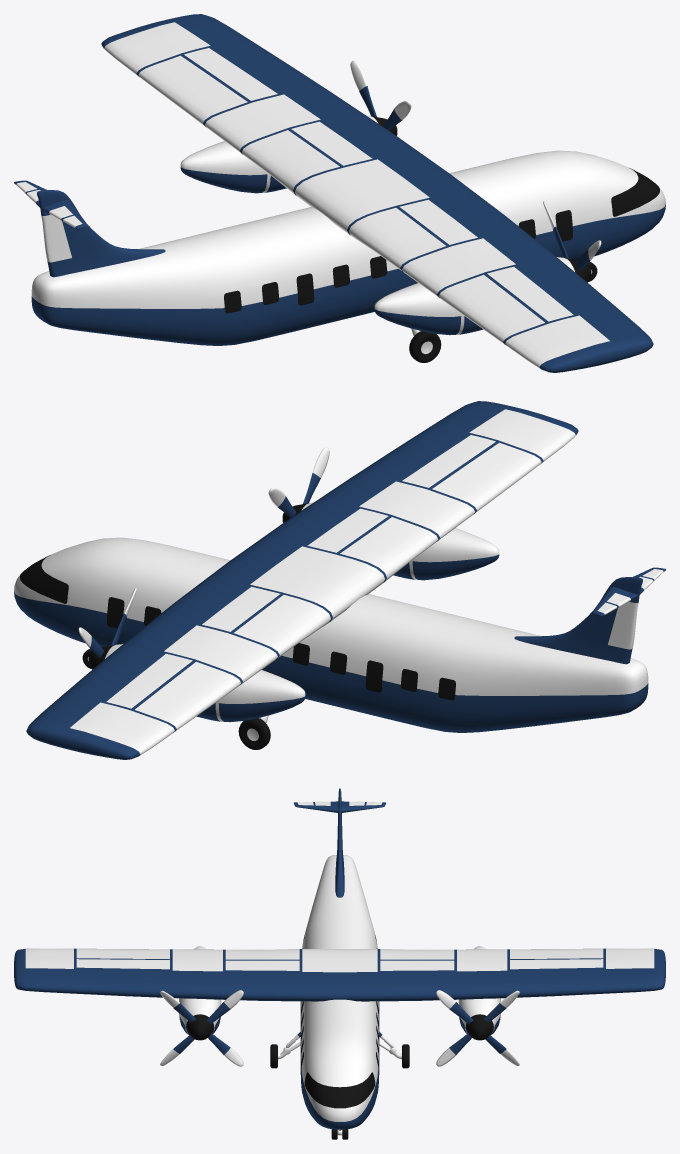
3 renders of one model, top to bottom at view 1: azimuth 30°, elevation 25°; view 2: azimuth 150°, elevation 25°; view 3: azimuth 270°, elevation 25°, orthographic. The views are drawn at different scales.
Visible parts, largest first — view 1: 18.4.Airplane; view 2: 18.4.Airplane; view 3: 18.4.Airplane.
Boxes of the visible parts, <box> form: 18.4.Airplane: <box>14,14,665,372</box>; 18.4.Airplane: <box>14,401,665,759</box>; 18.4.Airplane: <box>14,788,665,1139</box>.
Size of what is drawn, in the model's own units: 40.32 by 13.57 by 50.51.
1 material, 1 textured.
